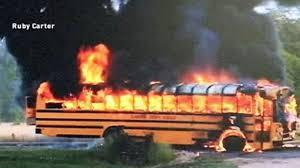fire: (37, 81, 296, 129), (74, 42, 113, 85), (213, 128, 259, 152)
